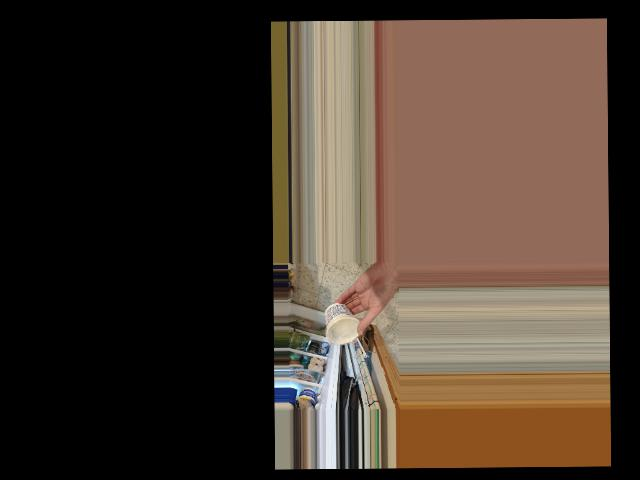cotage: (328, 301, 360, 345)
